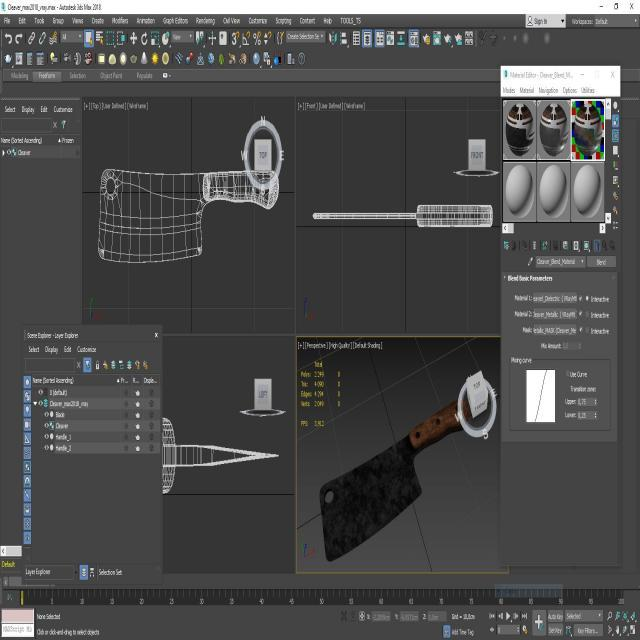cleaver: (326, 404, 464, 560)
